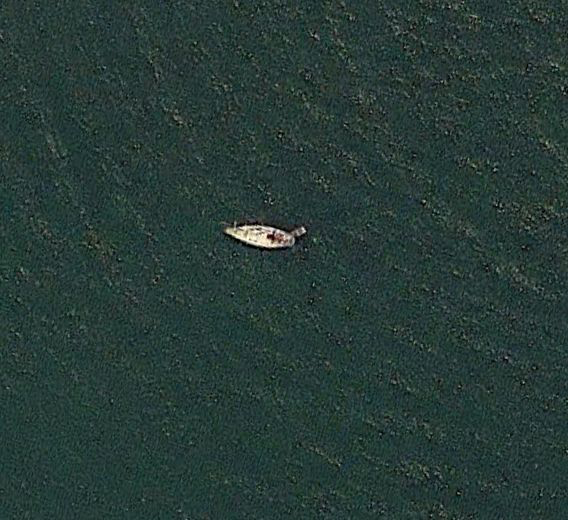boat: (222, 221, 299, 253)
